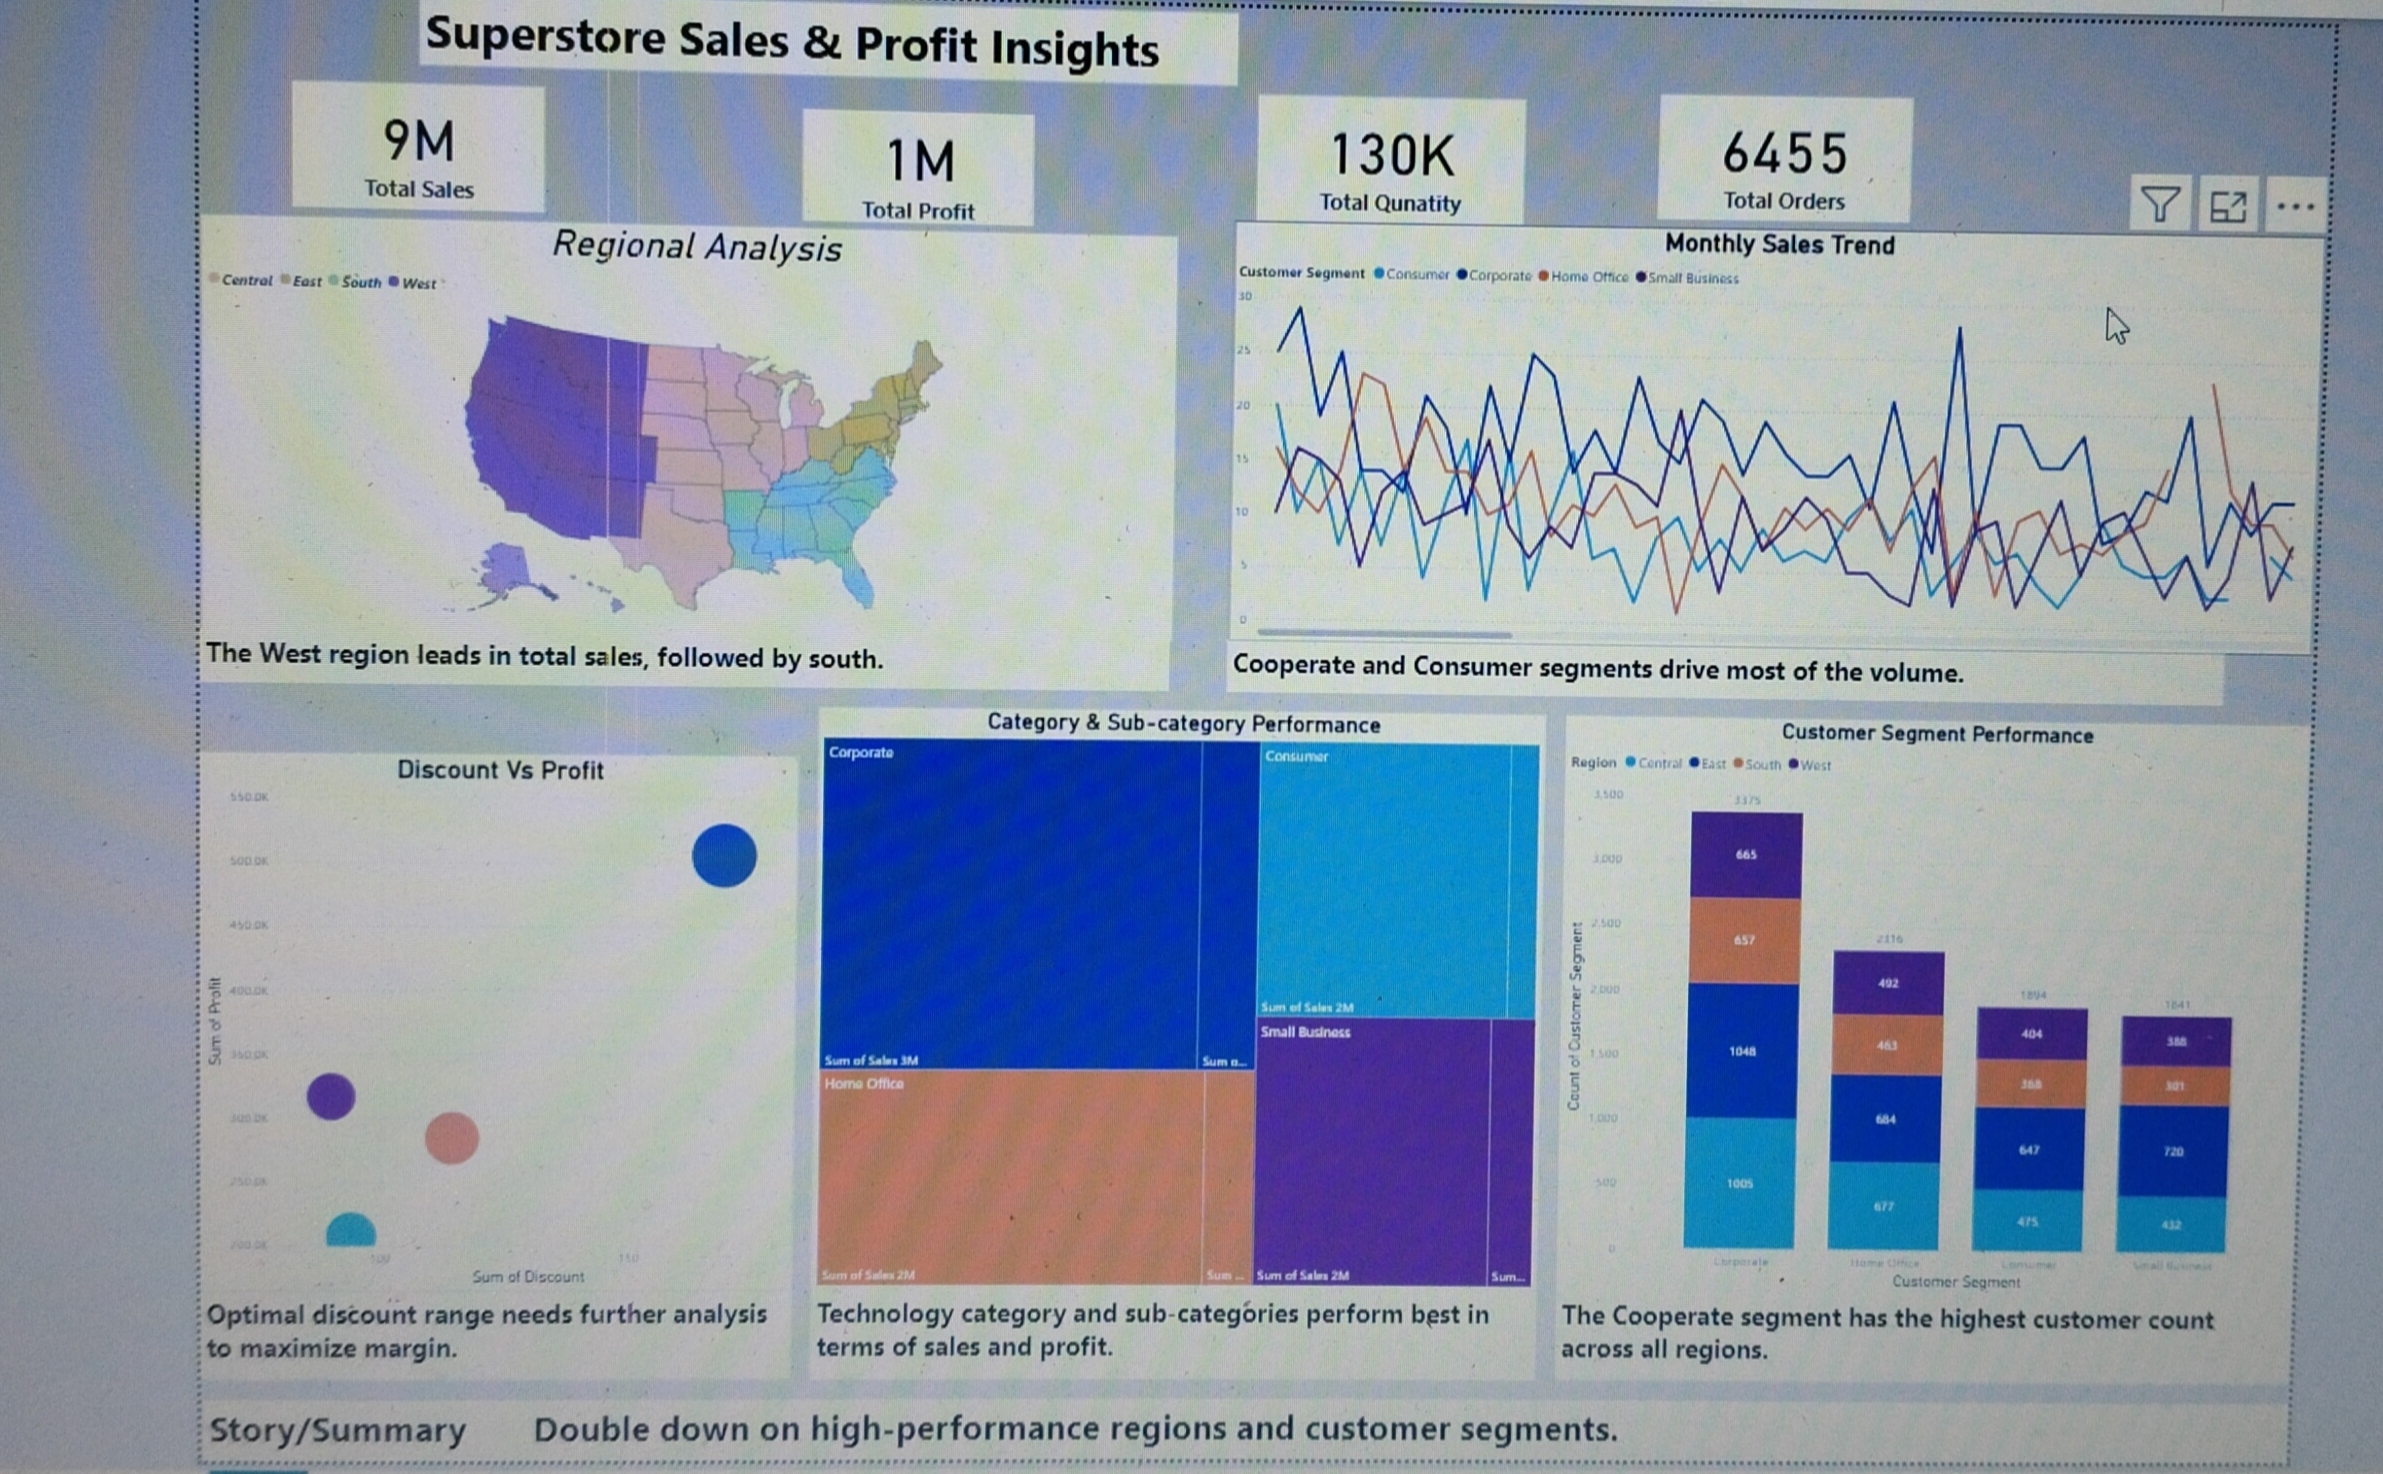

This screenshot's page, from the dashboard's own definition file:
{"tool":"powerbi","page":{"name":"Page 1","canvas":[1984,1377],"ordinal":0},"visuals":[{"type":"shapeMap","title":"Regional Analysis","fields":{"Series":["Superstore(in).Region"],"Value":["Sum(Superstore(in).Sales)"],"Category":["Superstore(in).State"]},"box":[2.3,211.7,894.1,382.8],"z":0},{"type":"lineChart","title":"Monthly Sales Trend","fields":{"Series":["Superstore(in).Customer Segment"],"Category":["Superstore(in).Order Date"],"Y":["CountNonNull(Superstore(in).Order Date)"]},"box":[950.4,195.9,1033.7,398.6],"z":1000},{"type":"scatterChart","title":"Discount Vs Profit","fields":{"X":["Sum(Superstore(in).Discount)"],"Y":["Sum(Superstore(in).Profit)"],"Series":["Superstore(in).Customer Segment"],"Size":["Sum(Superstore(in).Sales)"]},"box":[0,709.4,547.2,506.7],"z":2000},{"type":"treemap","title":"Category & Sub-category Performance","fields":{"Values":["Sum(Superstore(in).Sales)","Sum(Superstore(in).Profit)"],"Group":["Superstore(in).Customer Segment"]},"box":[565.3,662.1,689.1,554],"z":3000},{"type":"columnChart","title":"Customer Segment Performance","fields":{"Category":["Superstore(in).Customer Segment"],"Series":["Superstore(in).Region"],"Y":["CountNonNull(Superstore(in).Customer Segment)"]},"box":[1274.7,662.1,709.4,554],"z":4000},{"type":"card","fields":{"Values":["Superstore(in).Total Sales"]},"box":[83.3,87.8,227.5,114.9],"z":5000},{"type":"card","fields":{"Values":["Superstore(in).Total Profit"]},"box":[547.2,103.6,213.9,103.6],"z":6000},{"type":"card","fields":{"Values":["Superstore(in).Total Qunatity"]},"box":[970.6,78.8,252.2,117.1],"z":7000},{"type":"card","fields":{"Values":["Superstore(in).Total Orders"]},"box":[1349,72.1,238.7,117.1],"z":8000},{"type":"textbox","box":[0,594.5,894.1,49.5],"z":9000},{"type":"textbox","box":[950.4,594.5,950.4,49.5],"z":10000},{"type":"textbox","box":[1274.7,1216.1,709.4,83.3],"z":11000},{"type":"textbox","box":[0,1216.1,547.2,83.3],"z":12000},{"type":"textbox","box":[566,1216.1,689.9,84.2],"z":13000},{"type":"textbox","box":[198.2,4.5,752.2,67.6],"z":14000},{"type":"textbox","box":[2.3,1319,1983.2,58.5],"z":14001}]}

Visuals, with their boxes in screenshot pixels (x1, y1, x2, y2):
"Regional Analysis" shapeMap: <region>220, 255, 1165, 660</region>
"Monthly Sales Trend" lineChart: <region>1223, 238, 2316, 660</region>
"Discount Vs Profit" scatterChart: <region>217, 781, 796, 1317</region>
"Category & Sub-category Performance" treemap: <region>815, 731, 1544, 1317</region>
"Customer Segment Performance" columnChart: <region>1566, 731, 2316, 1317</region>
card - Superstore(in).Total Sales: <region>305, 124, 546, 245</region>
card - Superstore(in).Total Profit: <region>796, 141, 1022, 250</region>
card - Superstore(in).Total Qunatity: <region>1244, 114, 1511, 238</region>
card - Superstore(in).Total Orders: <region>1644, 107, 1897, 231</region>
textbox: <region>217, 660, 1163, 712</region>
textbox: <region>1223, 660, 2228, 712</region>
textbox: <region>1566, 1317, 2316, 1405</region>
textbox: <region>217, 1317, 796, 1405</region>
textbox: <region>816, 1317, 1546, 1406</region>
textbox: <region>427, 36, 1223, 107</region>
textbox: <region>220, 1426, 2317, 1473</region>
